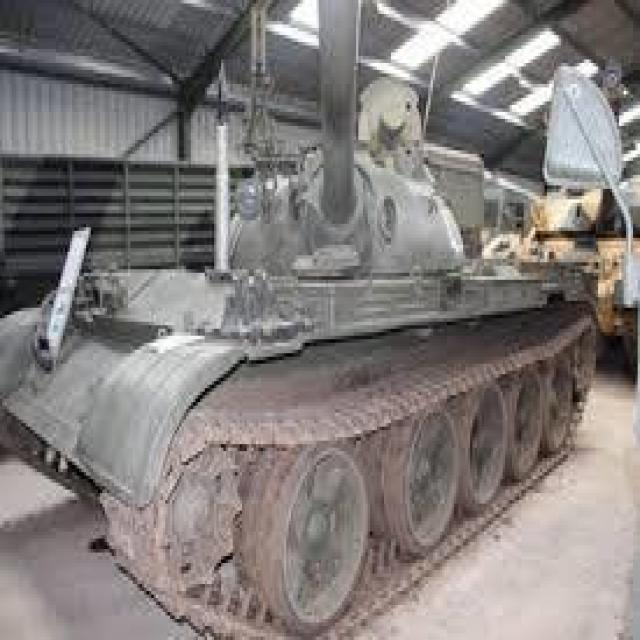Tanks: (12, 26, 566, 631)
